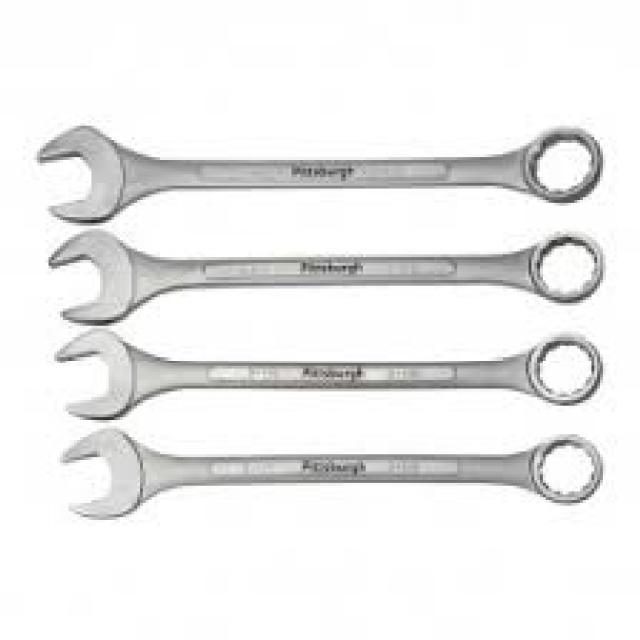wrench: (31, 118, 612, 230), (44, 224, 611, 328), (52, 422, 608, 526), (48, 325, 609, 424)
